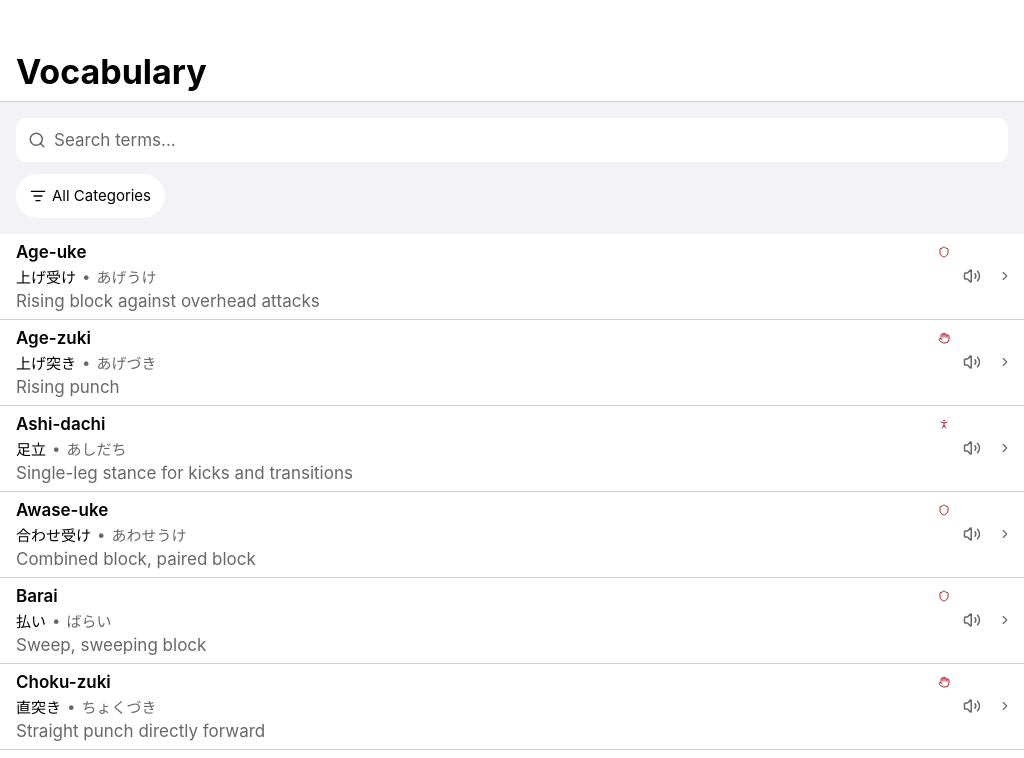
Test: VocabularyListScreen › searches terms
In the search field: point(529, 140) left=54, top=122, right=1004, bottom=158, type "zenkutsu"
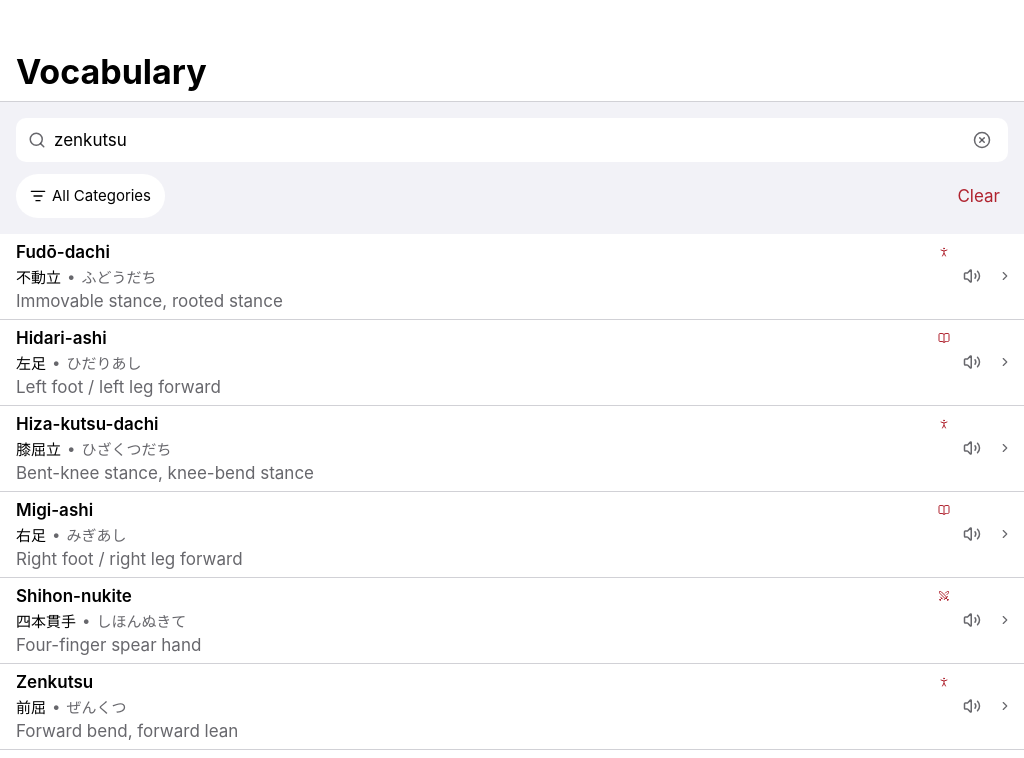
expect the number of buttons named "Clear" is 2: met, box left=960, top=118, right=1004, bottom=162; left=949, top=174, right=1008, bottom=218
